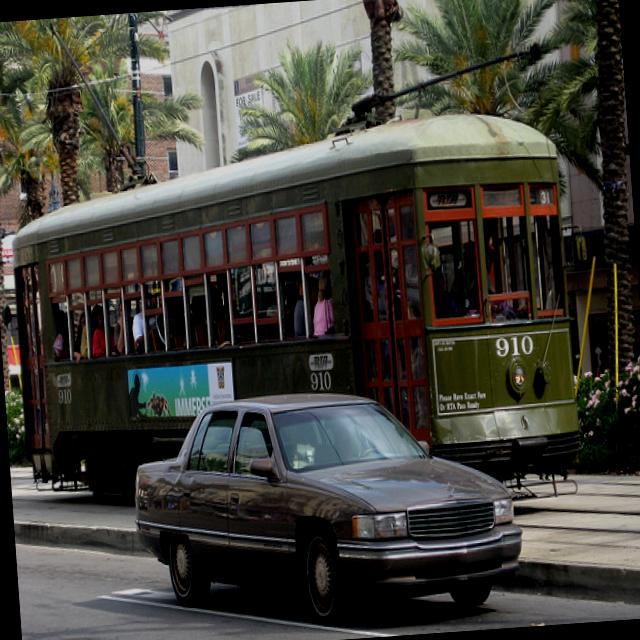Vehicle: (4, 104, 584, 512), (126, 375, 527, 638)
